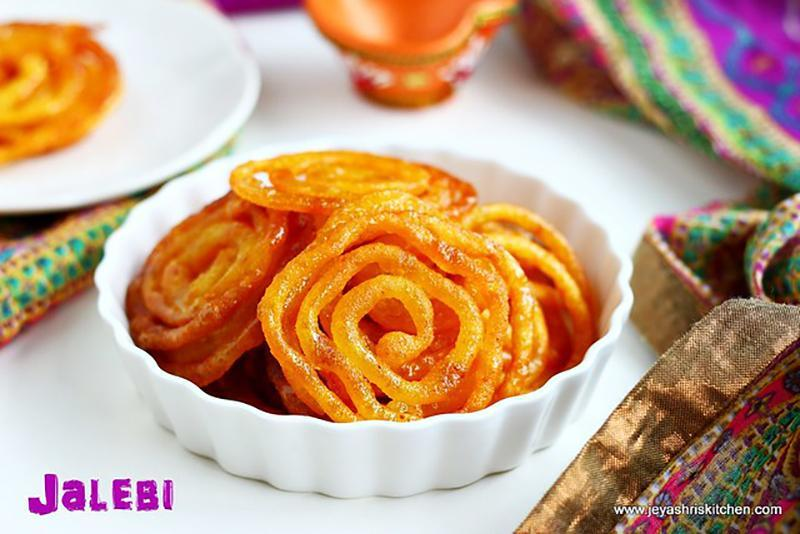jalebi: (131, 152, 591, 418)
